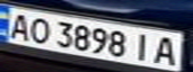3: (48, 19, 75, 48)
8: (69, 23, 93, 53), (106, 28, 130, 58)
9: (87, 25, 109, 55)
A: (151, 34, 184, 66), (3, 10, 33, 40)
I: (130, 30, 157, 63)
O: (24, 16, 54, 45)
